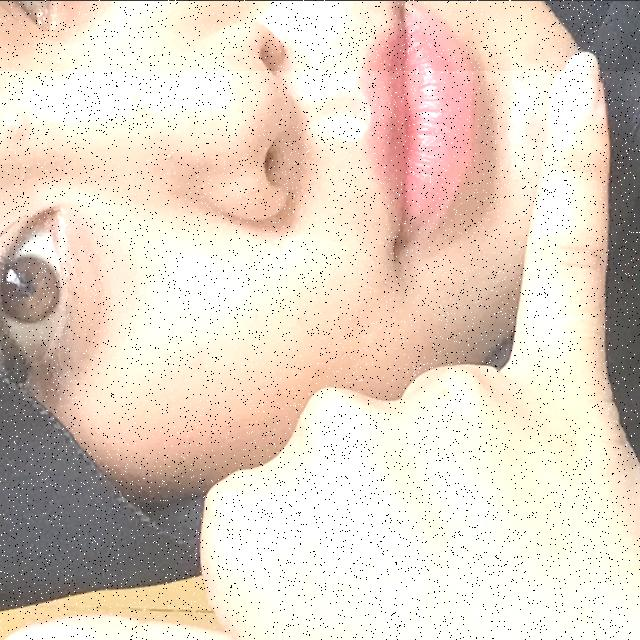telpon: (0, 70, 640, 640)
